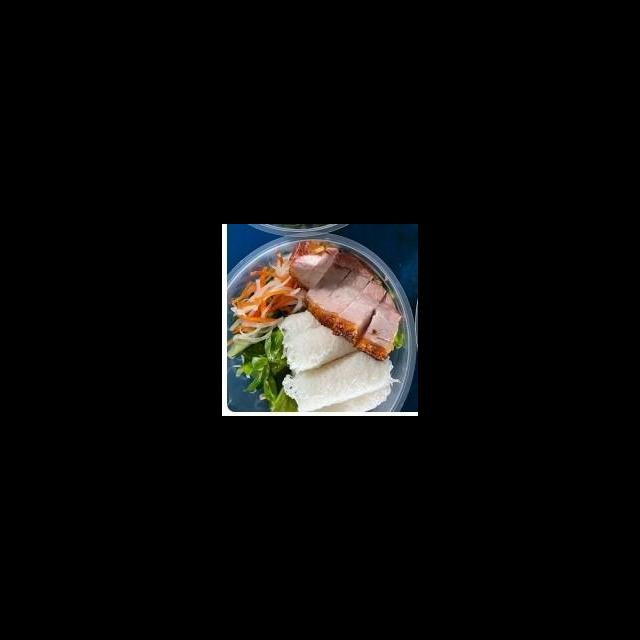banh hoi: (280, 346, 403, 416), (285, 322, 361, 376), (275, 306, 329, 362)
banh hoi heo quay: (230, 236, 411, 416)
dua chua: (229, 250, 309, 346)
thit heo quay: (301, 250, 404, 365), (286, 238, 340, 293)
